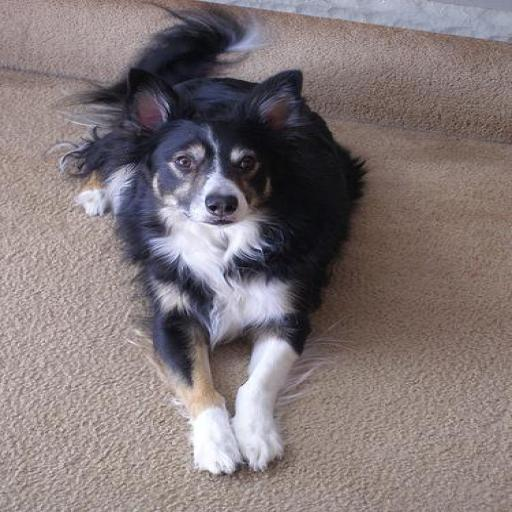dog_face: (115, 69, 322, 224)
